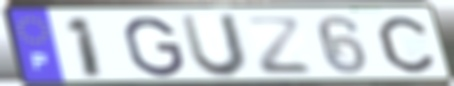1: (64, 15, 109, 81)
6: (314, 14, 371, 77)
C: (374, 14, 438, 75)
G: (121, 15, 188, 79)
U: (177, 12, 251, 81)
Z: (243, 16, 316, 77)
